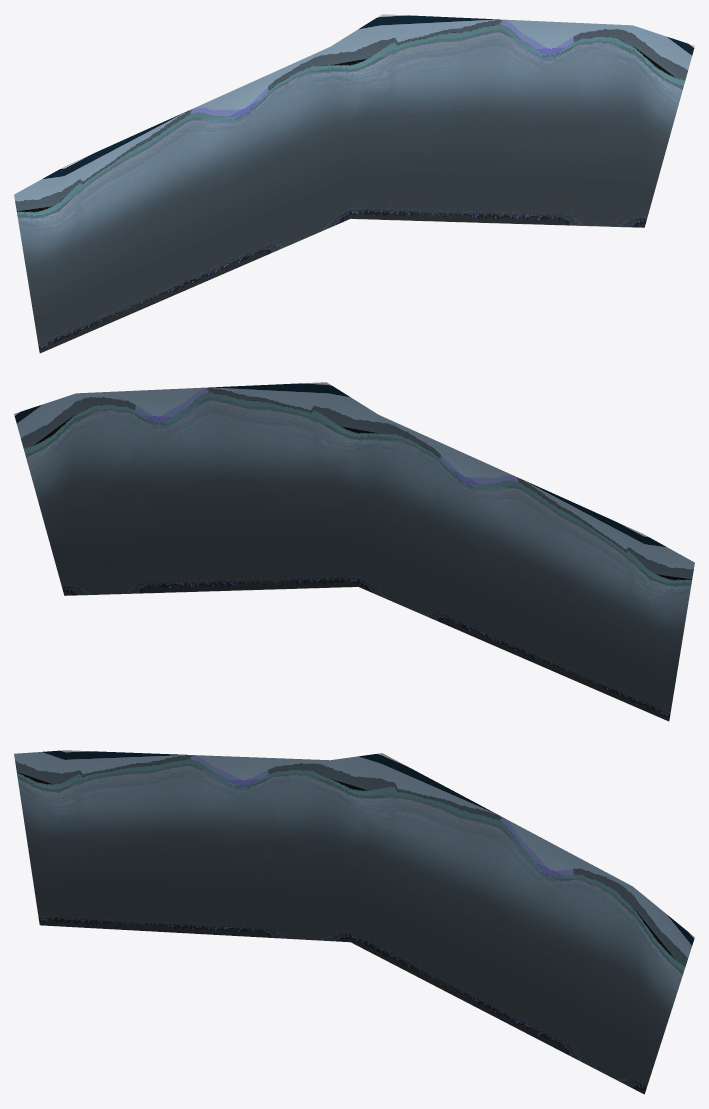
File: Fog.FBX
The picture shows the model from 3 angles, top to bottom: view 1: azimuth 30°, elevation 25°; view 2: azimuth 150°, elevation 25°; view 3: azimuth 330°, elevation 25°; orthographic projection.
Visible parts, largest first — view 1: Fog; view 2: Fog; view 3: Fog.
Boxes of the visible parts, <box> form: Fog: <box>14,14,694,353</box>; Fog: <box>14,382,694,721</box>; Fog: <box>14,750,694,1094</box>.
Size of the model in its own units: 3377 by 0.000305 by 1316.
